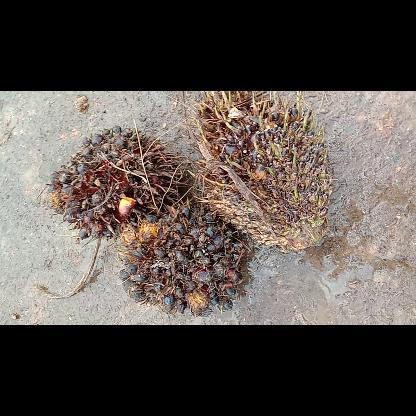TBS abnormal: (186, 90, 332, 250), (48, 126, 190, 238), (119, 202, 245, 314)
